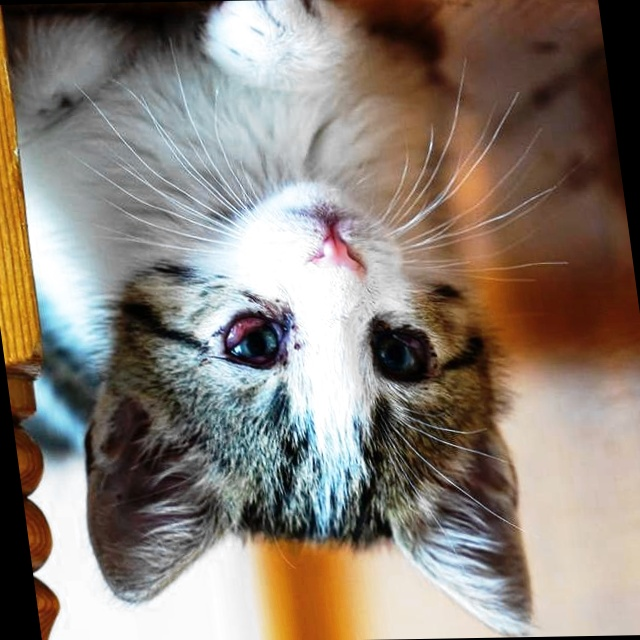eye_infection: (211, 309, 301, 372), (369, 327, 430, 391)
